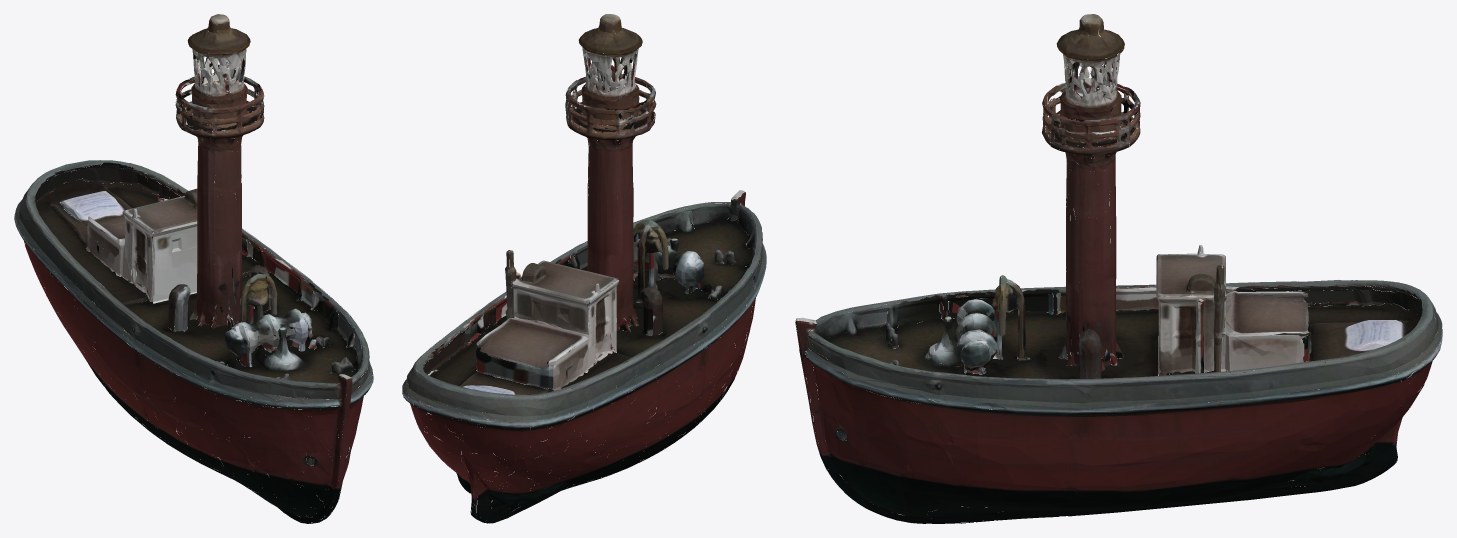
Rendered from coastal_lightship.glb.
The picture shows the model from 3 angles, left to right: view 1: azimuth 30°, elevation 25°; view 2: azimuth 150°, elevation 25°; view 3: azimuth 270°, elevation 25°; orthographic projection. The views are drawn at different scales.
Visible parts, largest first — view 1: tmpo7c6nocb.ply; view 2: tmpo7c6nocb.ply; view 3: tmpo7c6nocb.ply.
Part boxes in pixels (left/top/right/bottom): tmpo7c6nocb.ply: left=14, top=14, right=373, bottom=523; tmpo7c6nocb.ply: left=402, top=14, right=766, bottom=523; tmpo7c6nocb.ply: left=795, top=14, right=1442, bottom=523.
Bounding box in the file's own units: 11.86 × 27.61 × 32.
1 material, 1 textured.
